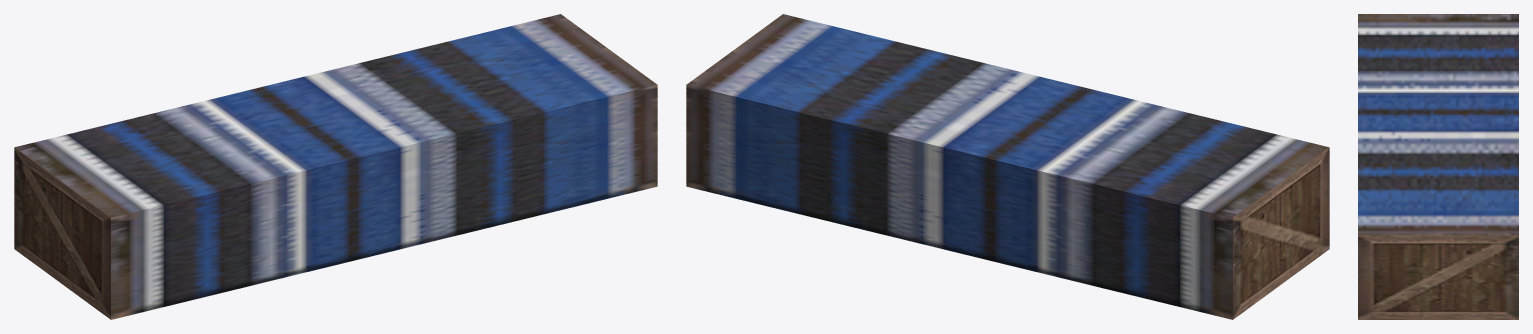
File: Market_Counter01.glb
3 renders of one model, left to right at view 1: azimuth 30°, elevation 25°; view 2: azimuth 150°, elevation 25°; view 3: azimuth 270°, elevation 25°, orthographic. The views are drawn at different scales.
Visible parts, largest first — view 1: MARKET_COUNTER01; view 2: MARKET_COUNTER01; view 3: MARKET_COUNTER01.
Part boxes in pixels (x1,y1,x2,y2): MARKET_COUNTER01: [14, 14, 657, 319]; MARKET_COUNTER01: [686, 14, 1329, 319]; MARKET_COUNTER01: [1358, 14, 1518, 319].
Bounding box in the file's own units: 4.17 × 0.742 × 1.28.
Materials: 1 (1 with a texture image).
